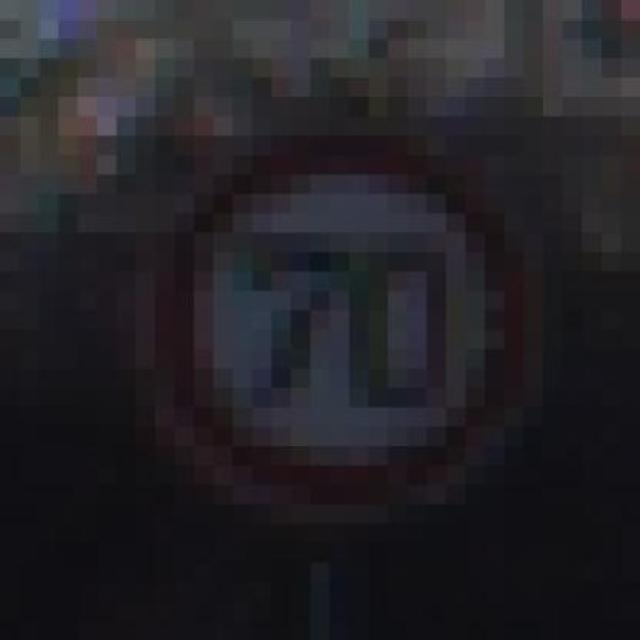forb_speed_over_70: (163, 136, 520, 501)
